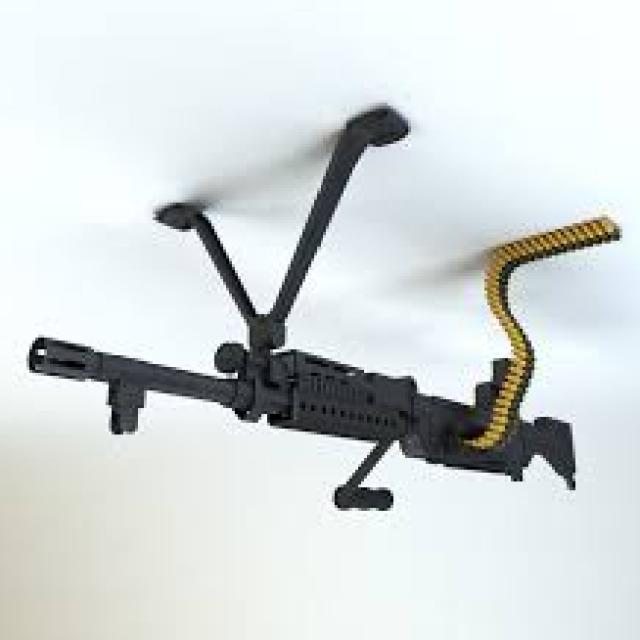Gun: (38, 104, 598, 556)
